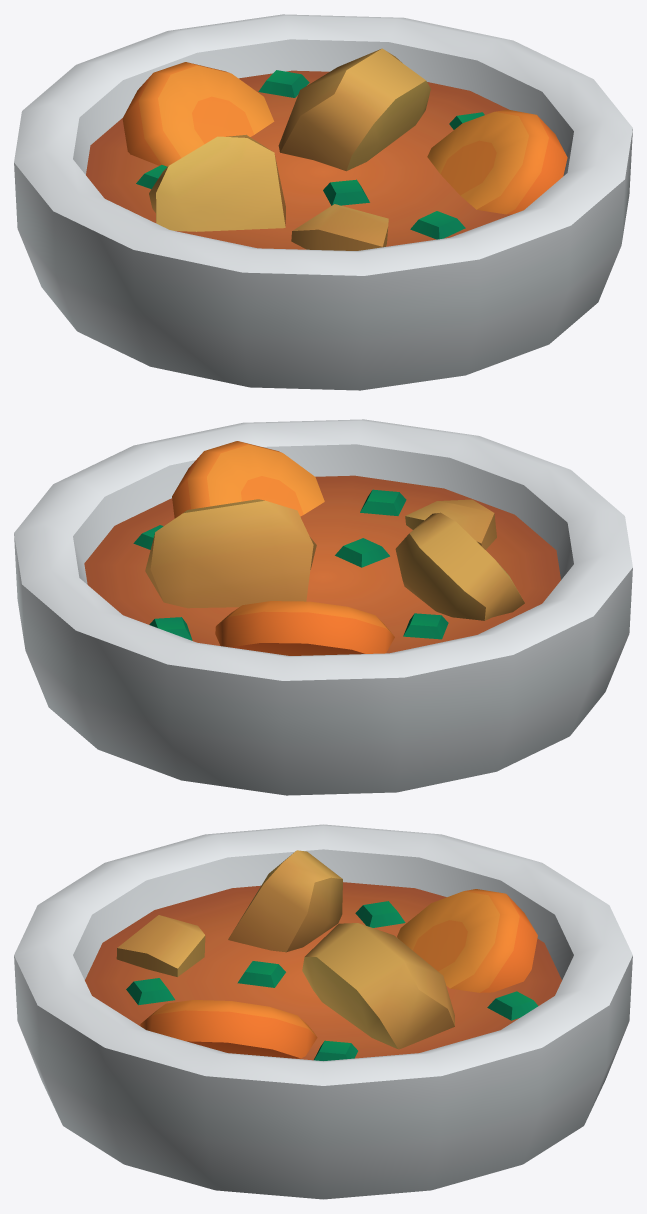
The model's file is soup.glb.
3 renders of one model, top to bottom at view 1: azimuth 30°, elevation 25°; view 2: azimuth 150°, elevation 25°; view 3: azimuth 270°, elevation 25°, orthographic.
Parts seen in each view (by area): view 1: food_stew; view 2: food_stew; view 3: food_stew.
Part boxes in pixels (x1,y1,x2,y2): food_stew: [14, 14, 632, 390]; food_stew: [14, 419, 632, 795]; food_stew: [14, 824, 632, 1199].
Size of the model in its own units: 0.95 by 0.3697 by 0.95.
1 material, 1 textured.
